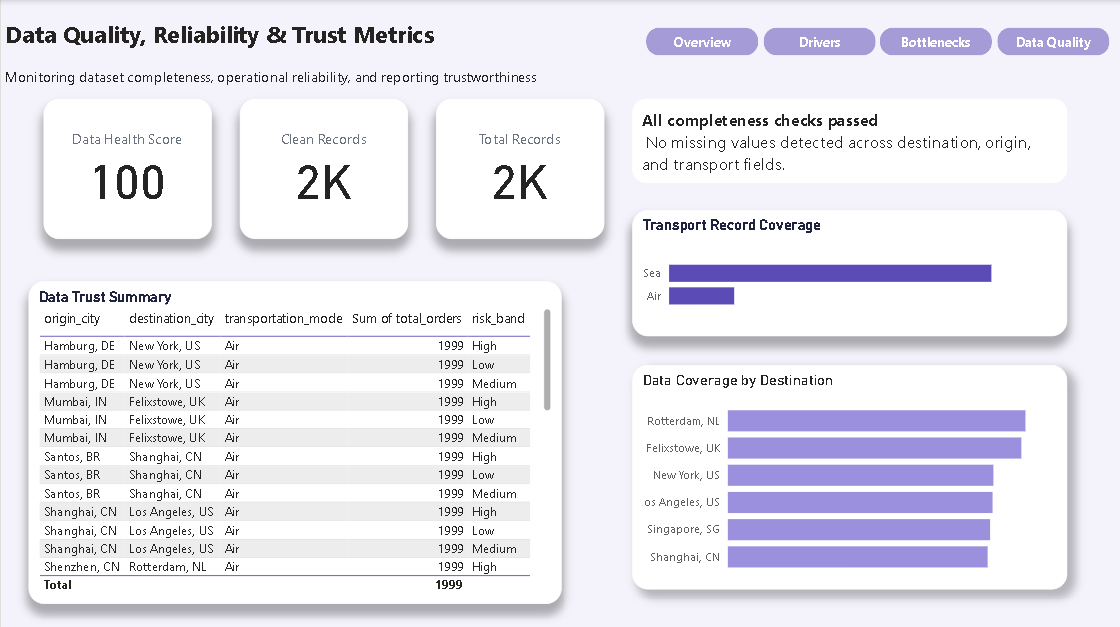

The page's visual inventory and layout, read from the dashboard file:
{"tool":"powerbi","page":{"name":"Data Quality & Trust","canvas":[1280,720],"ordinal":3},"visuals":[{"type":"textbox","box":[0,16,1280,96],"z":0},{"type":"cardVisual","title":"Data Health Score (0–100)","fields":{"Data":["Date.Data Health Score"]},"box":[48,112,192,160],"z":1000},{"type":"cardVisual","title":"Total Records Checked","fields":{"Data":["Date.Total Records"]},"box":[496,112,192,160],"z":2000},{"type":"cardVisual","fields":{"Data":["DQ Metrics.Clean Records"]},"box":[272,112,192,160],"z":3000},{"type":"group","id":"g1","title":"Group 1","box":[736,32,528,32],"z":4000},{"type":"tableEx","title":"Data Trust Summary","fields":{"Values":["ops v_fact_operations.origin_city","ops v_fact_operations.destination_city","ops v_fact_operations.transportation_mode","Sum(ops v_driver_breakdown.total_orders)","ops v_fact_operations.risk_band"]},"box":[32,320,608,368],"z":5000},{"type":"clusteredBarChart","title":"Transport Record Coverage","fields":{"Category":["ops v_fact_operations.transportation_mode"],"Y":["Date.Total Records"]},"box":[720,240,496,144],"z":6000},{"type":"textbox","box":[720,112,496,96],"z":7000},{"type":"barChart","title":"Data Coverage by Destination","fields":{"Y":["Date.Total Orders"],"Category":["ops v_fact_operations.destination_city"]},"box":[720,416,496,256],"z":8000},{"type":"actionButton","box":[736,32,128,32],"z":9000,"group":"g1"},{"type":"actionButton","box":[1136,32,128,32],"z":10000,"group":"g1"},{"type":"actionButton","box":[1002.7,32,128,32],"z":11000,"group":"g1"},{"type":"actionButton","box":[869.3,32,128,32],"z":12000,"group":"g1"}]}

Visuals, with their boxes in screenshot pixels (x1, y1, x2, y2), scaled from the page's 1280x720 canvas onto the 1120x627 screenshot:
textbox: 0:14:1119:98
"Data Health Score (0–100)" cardVisual: 42:98:210:237
"Total Records Checked" cardVisual: 434:98:602:237
cardVisual - DQ Metrics.Clean Records: 238:98:406:237
"Group 1" group: 644:28:1106:56
"Data Trust Summary" tableEx: 28:279:560:599
"Transport Record Coverage" clusteredBarChart: 630:209:1064:334
textbox: 630:98:1064:181
"Data Coverage by Destination" barChart: 630:362:1064:585
actionButton: 644:28:756:56
actionButton: 994:28:1106:56
actionButton: 877:28:989:56
actionButton: 761:28:873:56
